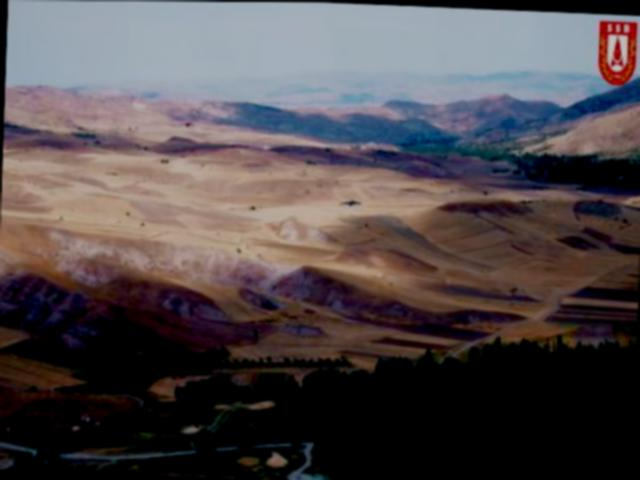uav: (338, 195, 364, 209)
